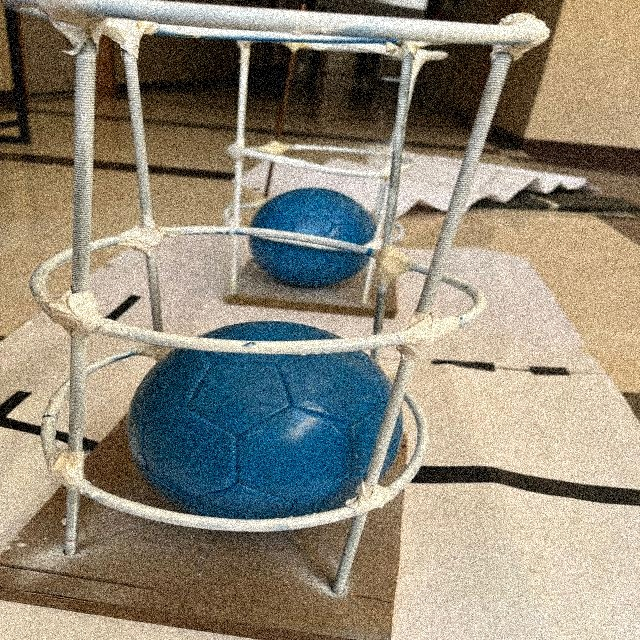blue_ball: (121, 312, 419, 551), (242, 186, 395, 296)
silo: (0, 0, 553, 626), (196, 15, 439, 305)
